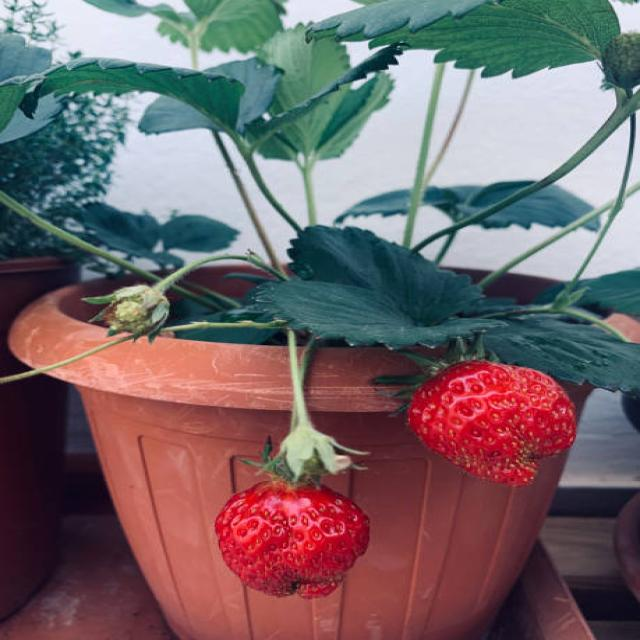Healthy Fruit: (406, 356, 581, 491), (215, 480, 370, 597)
